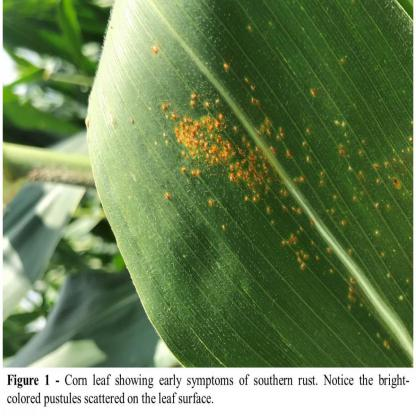Corn rust leaf: (81, 3, 413, 367)
